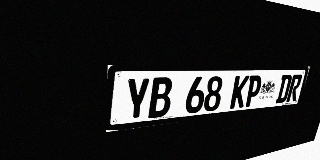6: (184, 76, 207, 114)
8: (202, 76, 224, 112)
B: (148, 77, 173, 118)
D: (275, 75, 293, 103)
K: (229, 75, 250, 109)
P: (244, 75, 263, 107)
R: (286, 74, 303, 102)
Y: (124, 78, 150, 121)
